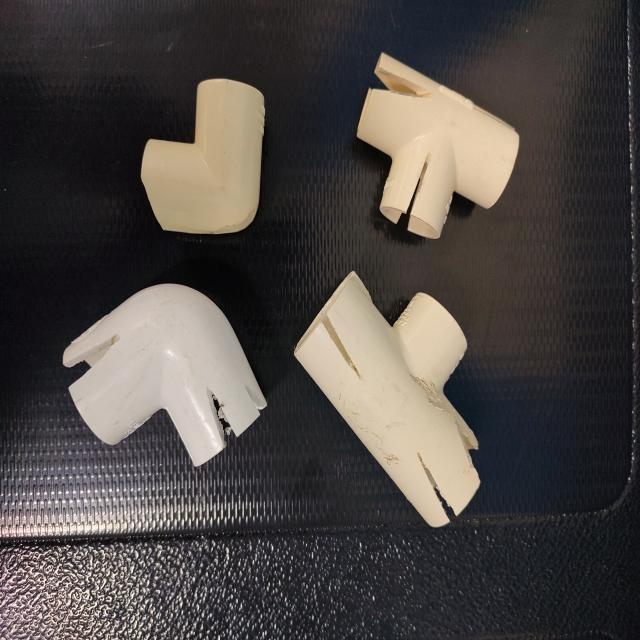Defective: (410, 374, 479, 469), (64, 334, 120, 386), (322, 311, 362, 380), (417, 452, 454, 521), (208, 391, 239, 445), (250, 381, 269, 412)
L Joint: (62, 284, 268, 468), (145, 80, 266, 239)
T Joint: (293, 272, 482, 530), (356, 52, 520, 242)
